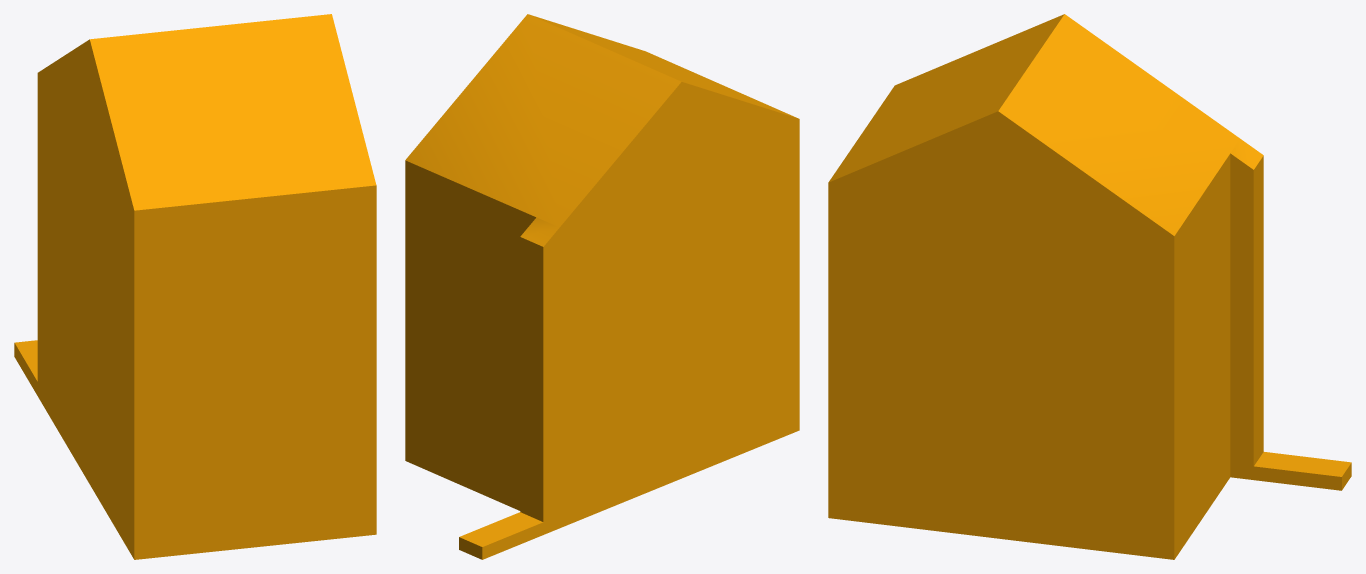
Rendered from DEHB01ALn0001OE2.gltf.
The picture shows the model from 3 angles, left to right: view 1: azimuth 30°, elevation 25°; view 2: azimuth 150°, elevation 25°; view 3: azimuth 270°, elevation 25°; orthographic projection. The views are drawn at different scales.
Visible parts, largest first — view 1: Z_UP; view 2: Z_UP; view 3: Z_UP.
Boxes of the visible parts, x1,y1,x2,y2 form: Z_UP: (14,14,376,559); Z_UP: (405,14,799,559); Z_UP: (828,14,1351,559).
Size of the model in its own units: 8.66 by 12.4 by 13.76.
